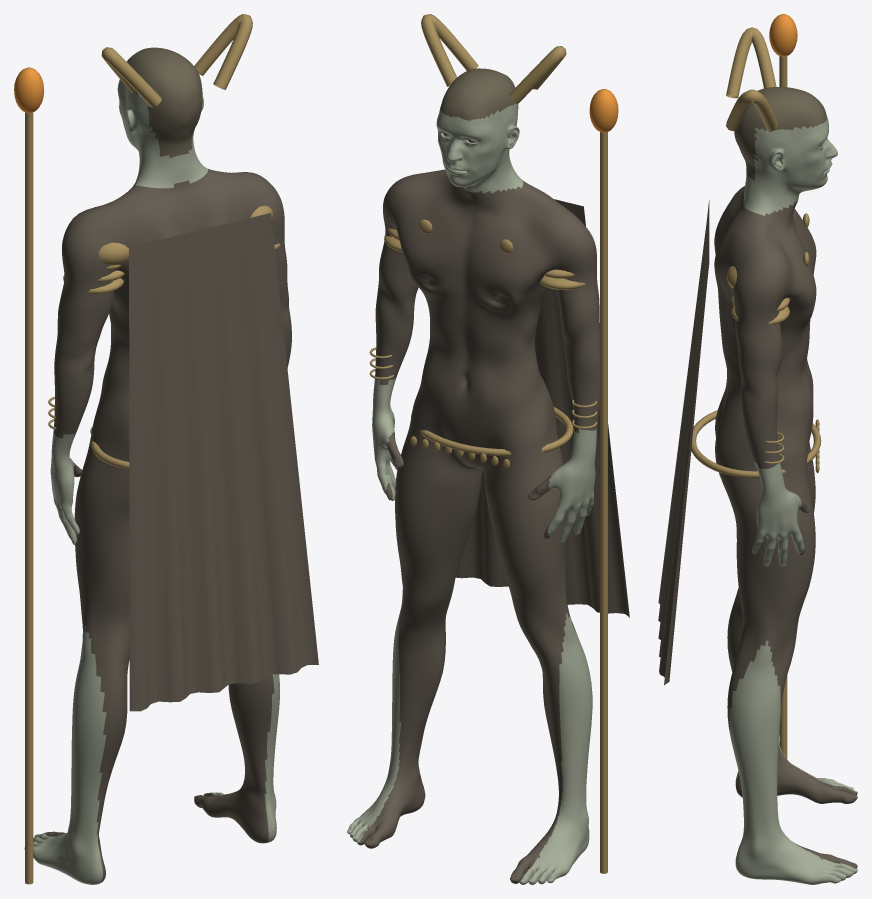
The model's file is party_horned.glb.
3 views of the same model, side by side, from view 1: azimuth 30°, elevation 25°; view 2: azimuth 150°, elevation 25°; view 3: azimuth 270°, elevation 25° (orthographic). The views are drawn at different scales.
Parts seen in each view (by area): view 1: Cloak, Anatomy, Staff, CurvedHorn, CurvedHorn.001, Amber; view 2: Anatomy, Cloak, Staff, CurvedHorn, Belt, CurvedHorn.001, Amber; view 3: Anatomy, Cloak, CurvedHorn.001, Belt, CurvedHorn, Amber, Staff.
Part boxes in pixels (x1,y1,x2,y2): Cloak: (129, 213, 318, 711); Anatomy: (24, 47, 291, 884); Staff: (25, 112, 33, 884); CurvedHorn: (194, 14, 252, 89); CurvedHorn.001: (101, 47, 161, 107); Amber: (14, 67, 44, 113); Anatomy: (347, 68, 599, 884); Cloak: (455, 199, 629, 617); Staff: (600, 132, 607, 873); CurvedHorn: (421, 14, 478, 86); Belt: (411, 407, 573, 456); CurvedHorn.001: (509, 46, 566, 103); Amber: (589, 89, 618, 132); Anatomy: (714, 87, 857, 884); Cloak: (658, 200, 709, 684); CurvedHorn.001: (726, 27, 776, 98); Belt: (691, 410, 821, 478); CurvedHorn: (726, 89, 777, 131); Amber: (769, 14, 797, 56); Staff: (779, 56, 787, 759).
Size of the model in its own units: 0.6855 by 2.08 by 0.4836.
